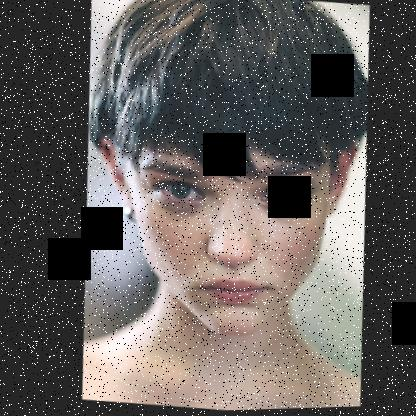Female: (79, 124, 365, 351)
